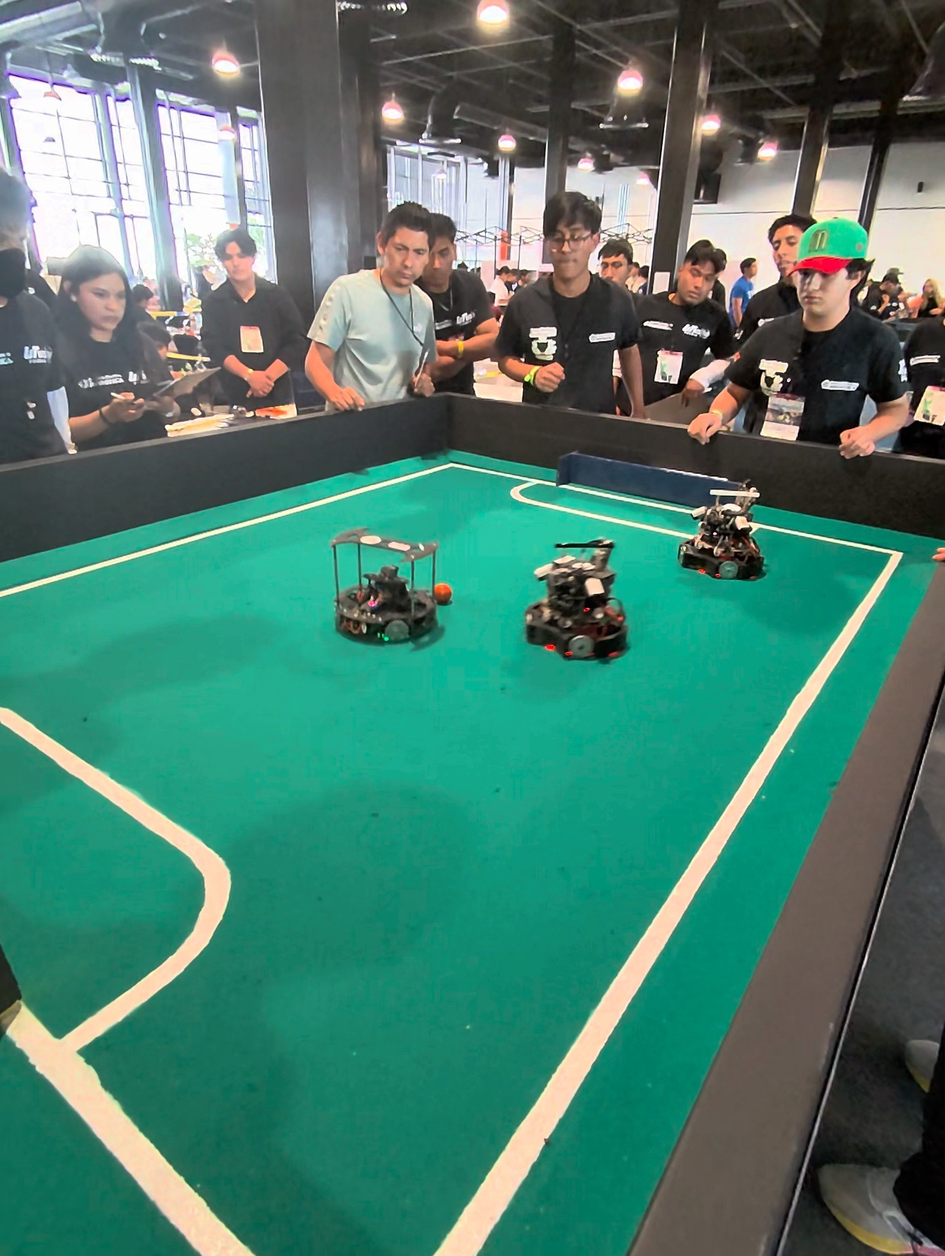Robot: (519, 537, 628, 674), (337, 531, 442, 657), (681, 482, 770, 588)
pelota: (436, 583, 448, 603)
